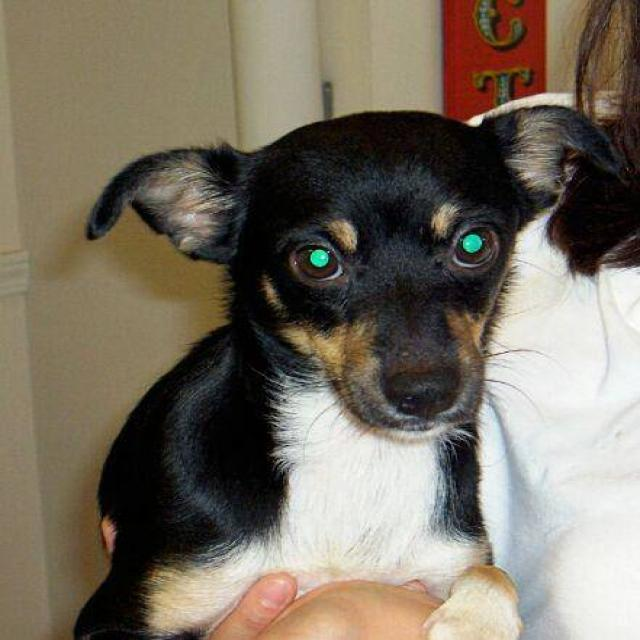Dog: (95, 51, 638, 462)
